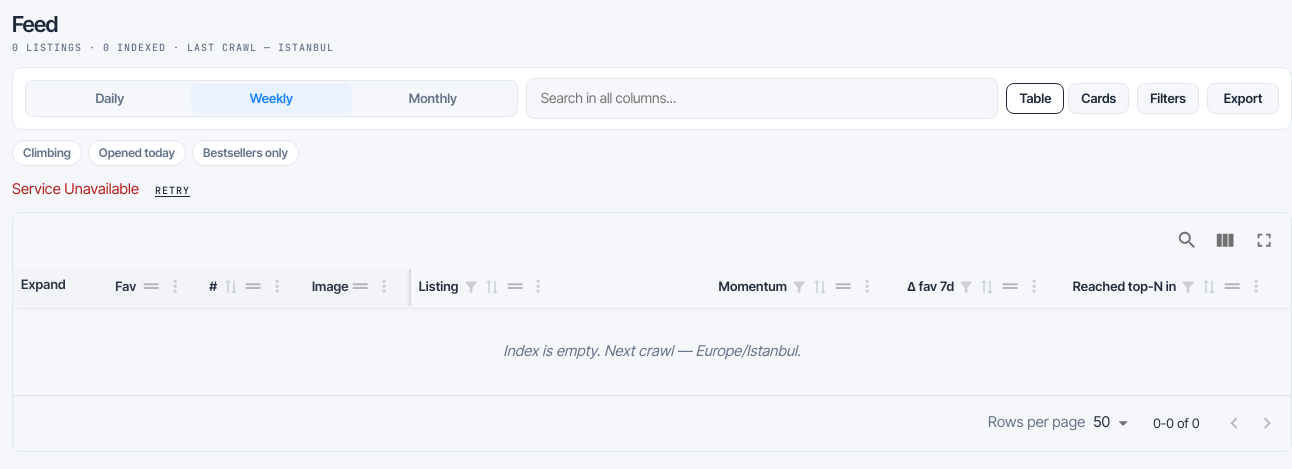
Scenario: FeedPage › recovers the feed after retrying a 503
The width and height of the screenshot is (1292, 469).
Expected: the text "Service Unavailable" is shown, [12,178,139,200]
Click the button "Retry".
click(172, 191)  # box [155,186,190,197]
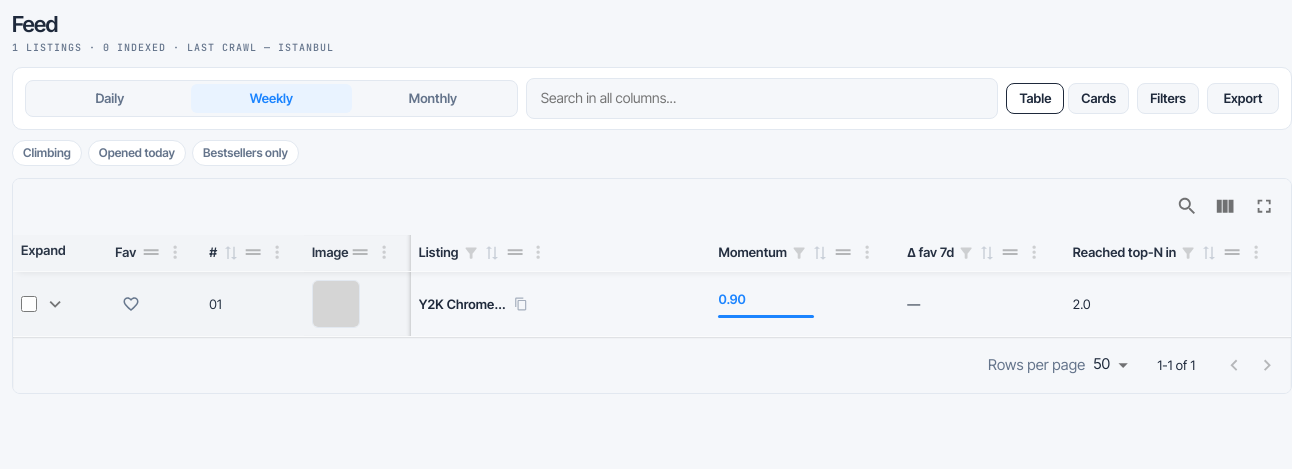
Result: the link "Y2K Chrome..." is shown at [419,296,506,312]
